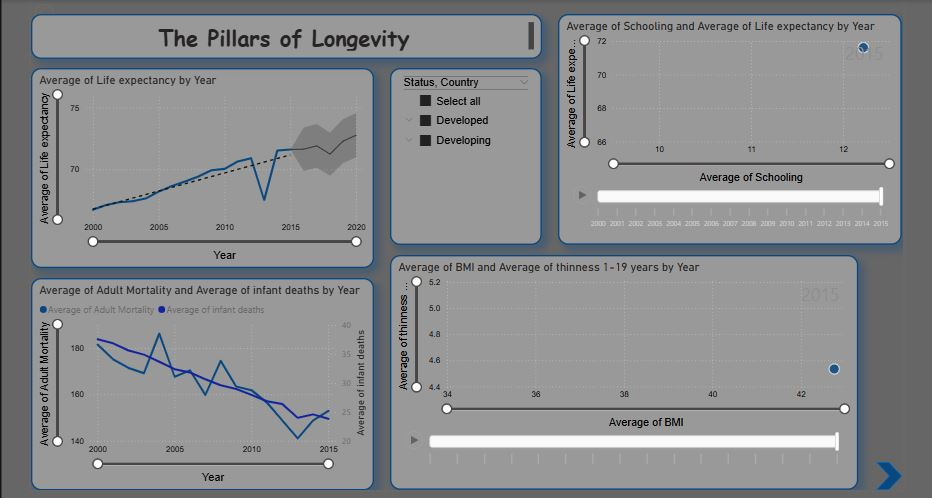

This screenshot's page, from the dashboard's own definition file:
{"tool":"powerbi","page":{"name":"Life Expectancy Drivers","canvas":[1280,720],"ordinal":2},"visuals":[{"type":"scatterChart","fields":{"Play":["Life Expectancy Data.Year.Variation.Date Hierarchy.Year"],"X":["Avg(Life Expectancy Data.Schooling)1"],"Y":["Avg(Life Expectancy Data.Life expectancy )"]},"box":[774.4,20.6,505.5,339.4],"z":0},{"type":"scatterChart","fields":{"Play":["Life Expectancy Data.Year.Variation.Date Hierarchy.Year"],"X":["Avg(Life Expectancy Data. BMI )"],"Y":["Avg(Life Expectancy Data. thinness  1-19 years)"]},"box":[527.5,374.7,687.7,345.3],"z":1000},{"type":"lineChart","fields":{"Category":["Life Expectancy Data.Year.Variation.Date Hierarchy.Year"],"Y":["Avg(Life Expectancy Data.Adult Mortality)"],"Y2":["Avg(Life Expectancy Data.infant deaths)"]},"box":[0,408.5,504,311.5],"z":2000},{"type":"actionButton","box":[0,0,100,40],"z":3000},{"type":"lineChart","fields":{"Category":["Life Expectancy Data.Year.Variation.Date Hierarchy.Year"],"Y":["Avg(Life Expectancy Data.Life expectancy )"]},"box":[0,99.9,504,293.9],"z":4000},{"type":"slicer","fields":{"Values":["Life Expectancy Data.Status Hierarchy.Status","Life Expectancy Data.Status Hierarchy.Country"]},"box":[527.5,99.9,223.3,260.1],"z":5000},{"type":"textbox","box":[0,20.6,750.9,66.1],"z":6000},{"type":"shape","box":[1241.6,678.9,38.2,41.1],"z":7000}]}

Visuals, with their boxes on the page's 1280x720 design canvas (x1, y1, x2, y2). These are canvas units, not pixel positions in the 932x498 screenshot, which may show the page scaled, cropped or inside an application window:
scatterChart - Life Expectancy Data.Year.Variation.Date Hierarchy.Year x Avg(Life Expectancy Data.Schooling)1: pyautogui.locateOnScreen(774, 21, 1280, 360)
scatterChart - Life Expectancy Data.Year.Variation.Date Hierarchy.Year x Avg(Life Expectancy Data. BMI ): pyautogui.locateOnScreen(528, 375, 1215, 720)
lineChart - Life Expectancy Data.Year.Variation.Date Hierarchy.Year x Avg(Life Expectancy Data.Adult Mortality): pyautogui.locateOnScreen(0, 408, 504, 720)
actionButton: pyautogui.locateOnScreen(0, 0, 100, 40)
lineChart - Life Expectancy Data.Year.Variation.Date Hierarchy.Year x Avg(Life Expectancy Data.Life expectancy ): pyautogui.locateOnScreen(0, 100, 504, 394)
slicer - Life Expectancy Data.Status Hierarchy.Status x Life Expectancy Data.Status Hierarchy.Country: pyautogui.locateOnScreen(528, 100, 751, 360)
textbox: pyautogui.locateOnScreen(0, 21, 751, 87)
shape: pyautogui.locateOnScreen(1242, 679, 1280, 720)
